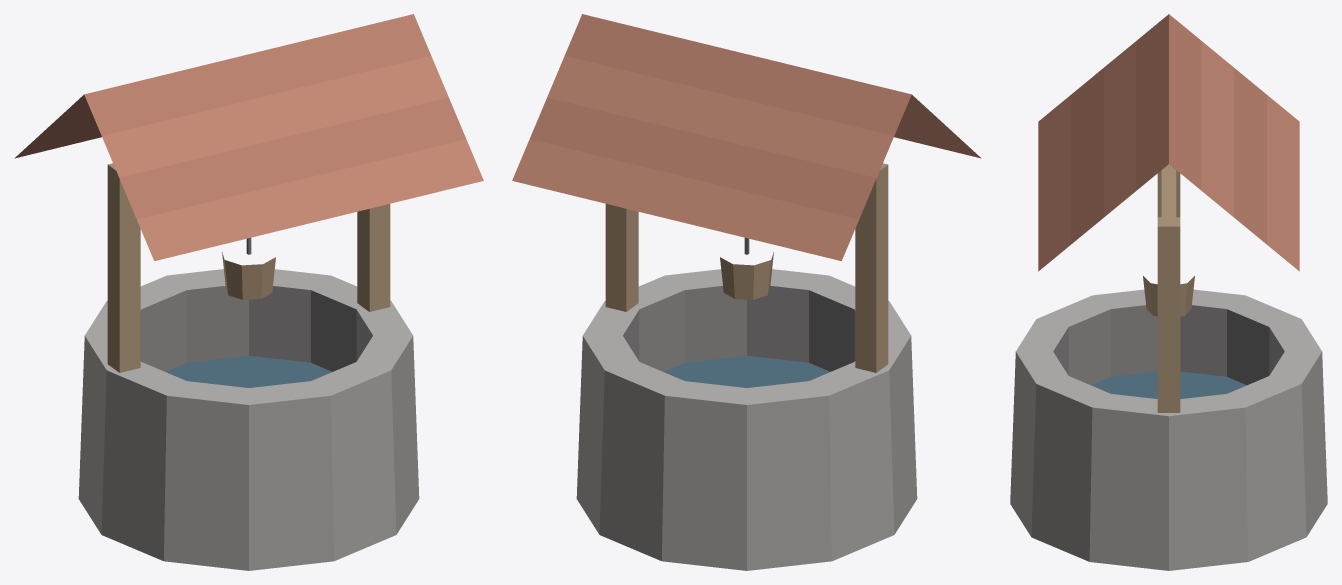
The model's file is well.glb.
3 renders of one model, left to right at view 1: azimuth 30°, elevation 25°; view 2: azimuth 150°, elevation 25°; view 3: azimuth 270°, elevation 25°, orthographic. The views are drawn at different scales.
Parts seen in each view (by area): view 1: well; view 2: well; view 3: well.
Boxes of the visible parts, x1=… form: well: x1=14, y1=14, x2=483, y2=570; well: x1=512, y1=14, x2=981, y2=570; well: x1=1010, y1=14, x2=1327, y2=570.
Bounding box in the file's own units: 1.9 × 2.45 × 1.7.
